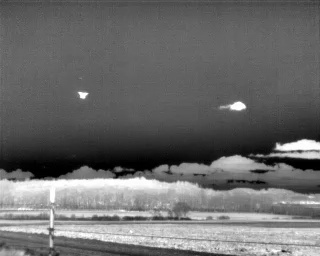DRONE: (74, 87, 92, 104)
